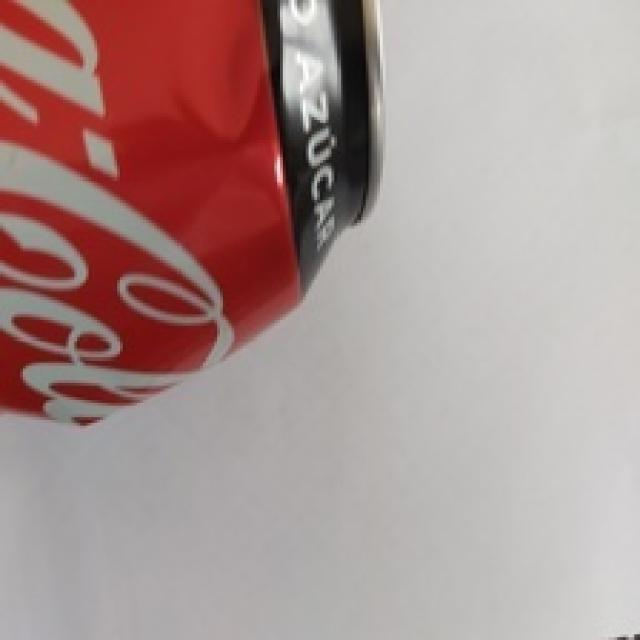recyclable: (0, 0, 385, 434)
